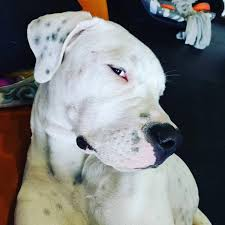dog: (16, 9, 210, 225)
